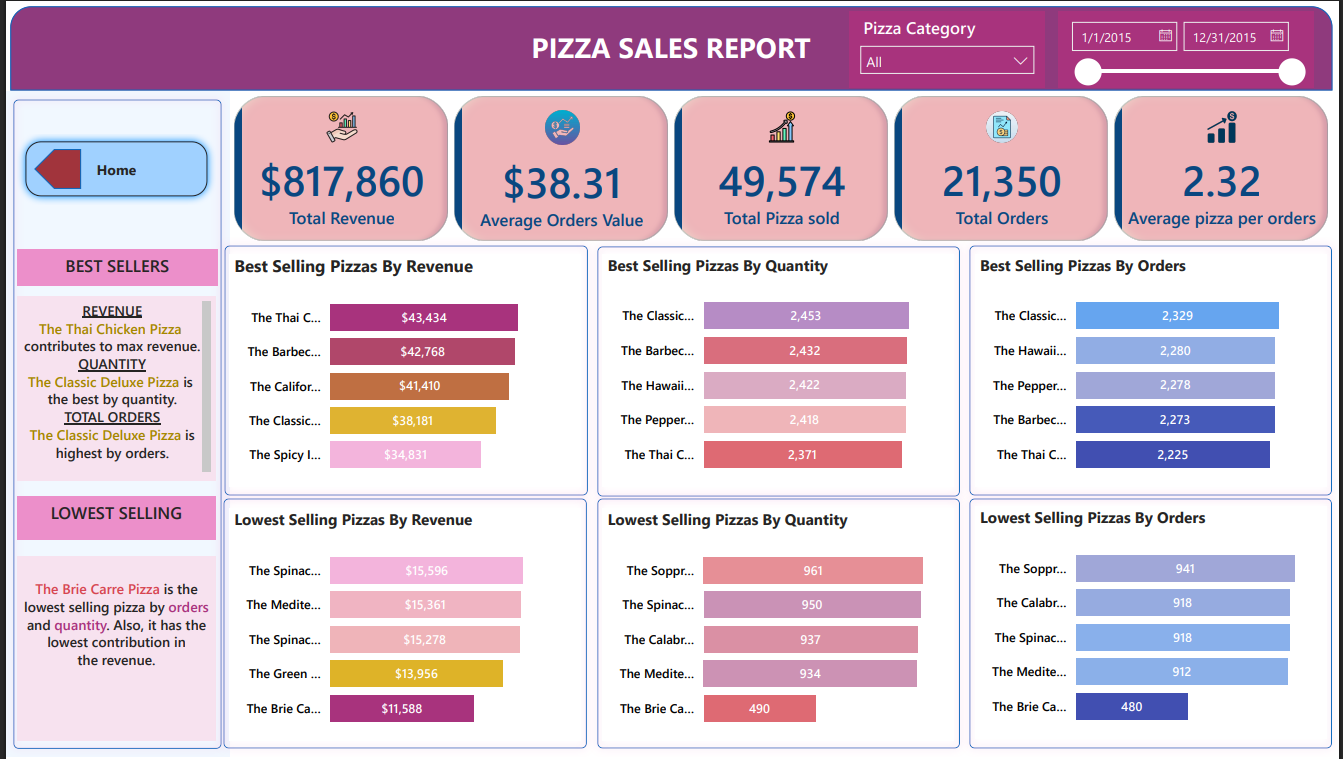

What the dashboard file says about the page in this screenshot:
{"tool":"powerbi","page":{"name":"Selling Statistics","canvas":[1280,720],"ordinal":1},"visuals":[{"type":"shape","box":[0,81.7,215,638.3],"z":0},{"type":"cardVisual","fields":{"Data":["data_analysis_project copied_pizza_sale.Total Revenue","data_analysis_project copied_pizza_sale.Average Orders Value","data_analysis_project copied_pizza_sale.Total Pizza sold","data_analysis_project copied_pizza_sale.Total Orders","data_analysis_project copied_pizza_sale.Average pizza per orders"]},"box":[215,81.7,1058.3,148.3],"z":1000},{"type":"shape","box":[4.9,0,1267.9,81],"z":2000},{"type":"textbox","box":[480.9,16.2,315.7,47],"z":3000},{"type":"shape","box":[916.7,221.7,363.3,255],"z":4000},{"type":"shape","box":[560,223.3,363.3,255],"z":5000},{"type":"shape","box":[203.3,221.7,363.3,255],"z":6000},{"type":"textbox","box":[11.7,233.3,191.7,35],"z":7000},{"type":"textbox","box":[11.7,470,190,41.7],"z":8000},{"type":"textbox","box":[11.7,278.3,190,176.7],"z":9000},{"type":"textbox","box":[11.7,528.3,190,176.7],"z":10000},{"type":"slicer","fields":{"Values":["data_analysis_project copied_pizza_sale.pizza_category"]},"box":[810,5,186.7,73.3],"z":11000},{"type":"slicer","fields":{"Values":["data_analysis_project copied_pizza_sale.order_date"]},"box":[1010,5,245,73.3],"z":12000},{"type":"shape","box":[201.7,465,363.3,255],"z":13000},{"type":"shape","box":[560,465,363.3,255],"z":14000},{"type":"shape","box":[916.7,465,363.3,255],"z":15000},{"type":"barChart","title":"Best Selling Pizzas By Revenue","fields":{"Category":["data_analysis_project copied_pizza_sale.pizza_name"],"Y":["data_analysis_project copied_pizza_sale.Total Revenue"]},"box":[215,238.3,336.7,223.3],"z":16000},{"type":"barChart","title":"Lowest Selling Pizzas By Revenue","fields":{"Category":["data_analysis_project copied_pizza_sale.pizza_name"],"Y":["data_analysis_project copied_pizza_sale.Total Revenue"]},"box":[215,481.7,336.7,223.3],"z":17000},{"type":"barChart","title":"Best Selling Pizzas By Quantity","fields":{"Category":["data_analysis_project copied_pizza_sale.pizza_name"],"Y":["data_analysis_project copied_pizza_sale.Total Pizza sold"]},"box":[573.3,238.3,336.7,223.3],"z":18000},{"type":"barChart","title":"Lowest Selling Pizzas By Quantity","fields":{"Category":["data_analysis_project copied_pizza_sale.pizza_name"],"Y":["data_analysis_project copied_pizza_sale.Total Pizza sold"]},"box":[573.3,481.7,336.7,223.3],"z":19000},{"type":"barChart","title":"Best Selling Pizzas By Orders","fields":{"Category":["data_analysis_project copied_pizza_sale.pizza_name"],"Y":["data_analysis_project copied_pizza_sale.Total Orders"]},"box":[930,238.3,336.7,223.3],"z":20000},{"type":"barChart","title":"Lowest Selling Pizzas By Orders","fields":{"Category":["data_analysis_project copied_pizza_sale.pizza_name"],"Y":["data_analysis_project copied_pizza_sale.Total Orders"]},"box":[930,480,336.7,223.3],"z":21000},{"type":"pageNavigator","box":[11.7,121.7,190,68.3],"z":22000},{"type":"shape","box":[28.3,136.7,45,38.3],"z":23000}]}

Visuals, with their boxes in screenshot pixels (x1, y1, x2, y2), scaled from the page's 1280x720 canvas onto the 1343x759 screenshot:
shape: <bbox>0, 86, 226, 758</bbox>
cardVisual - data_analysis_project copied_pizza_sale.Total Revenue x data_analysis_project copied_pizza_sale.Average Orders Value: <bbox>226, 86, 1336, 242</bbox>
shape: <bbox>5, 0, 1335, 85</bbox>
textbox: <bbox>505, 17, 836, 67</bbox>
shape: <bbox>962, 234, 1342, 503</bbox>
shape: <bbox>588, 235, 969, 504</bbox>
shape: <bbox>213, 234, 594, 503</bbox>
textbox: <bbox>12, 246, 213, 283</bbox>
textbox: <bbox>12, 495, 212, 539</bbox>
textbox: <bbox>12, 293, 212, 480</bbox>
textbox: <bbox>12, 557, 212, 743</bbox>
slicer - data_analysis_project copied_pizza_sale.pizza_category: <bbox>850, 5, 1046, 83</bbox>
slicer - data_analysis_project copied_pizza_sale.order_date: <bbox>1060, 5, 1317, 83</bbox>
shape: <bbox>212, 490, 593, 758</bbox>
shape: <bbox>588, 490, 969, 758</bbox>
shape: <bbox>962, 490, 1342, 758</bbox>
"Best Selling Pizzas By Revenue" barChart: <bbox>226, 251, 579, 487</bbox>
"Lowest Selling Pizzas By Revenue" barChart: <bbox>226, 508, 579, 743</bbox>
"Best Selling Pizzas By Quantity" barChart: <bbox>602, 251, 955, 487</bbox>
"Lowest Selling Pizzas By Quantity" barChart: <bbox>602, 508, 955, 743</bbox>
"Best Selling Pizzas By Orders" barChart: <bbox>976, 251, 1329, 487</bbox>
"Lowest Selling Pizzas By Orders" barChart: <bbox>976, 506, 1329, 741</bbox>
pageNavigator: <bbox>12, 128, 212, 200</bbox>
shape: <bbox>30, 144, 77, 184</bbox>
